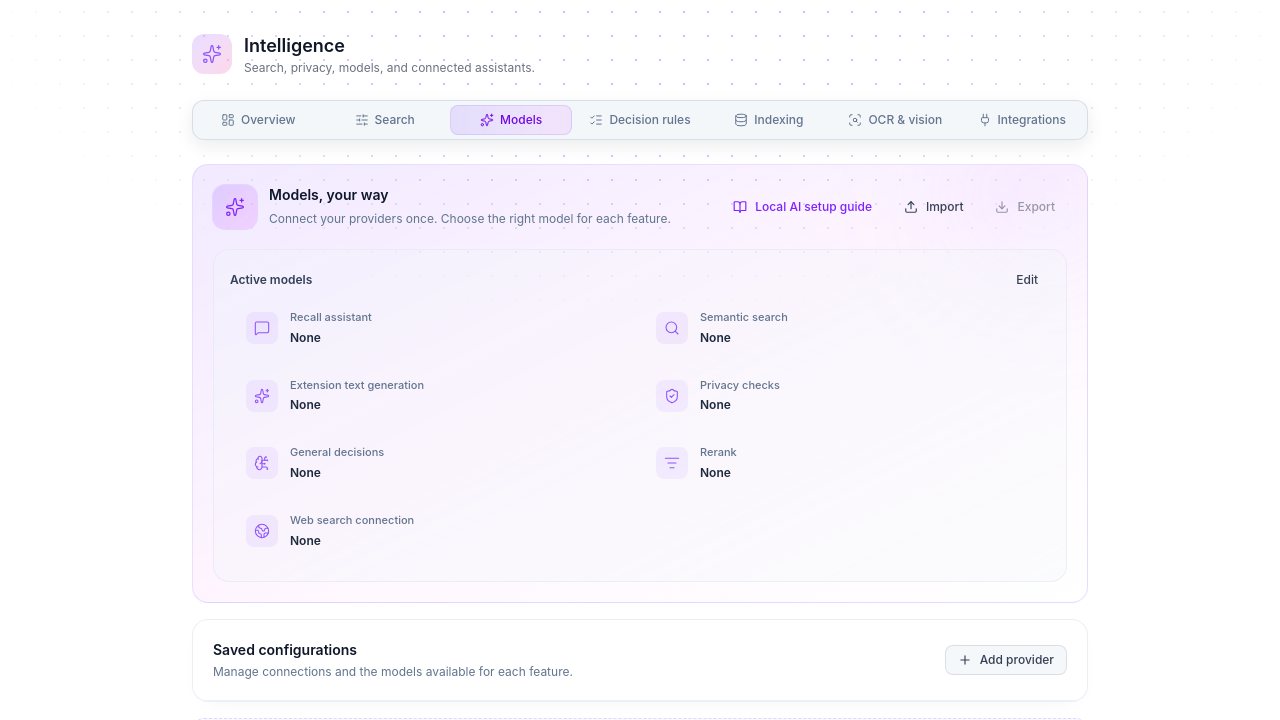
Test case: IntelligencePage indexing actions › separates model assignments from indexing operations
The image size is (1280, 720).
expect the heading "Active models" is shown: met, box [230,272,312,288]
expect the button "Reindex all" is not shown: met
Click the tab "Indexing": (769, 120) [708,105,830,135]
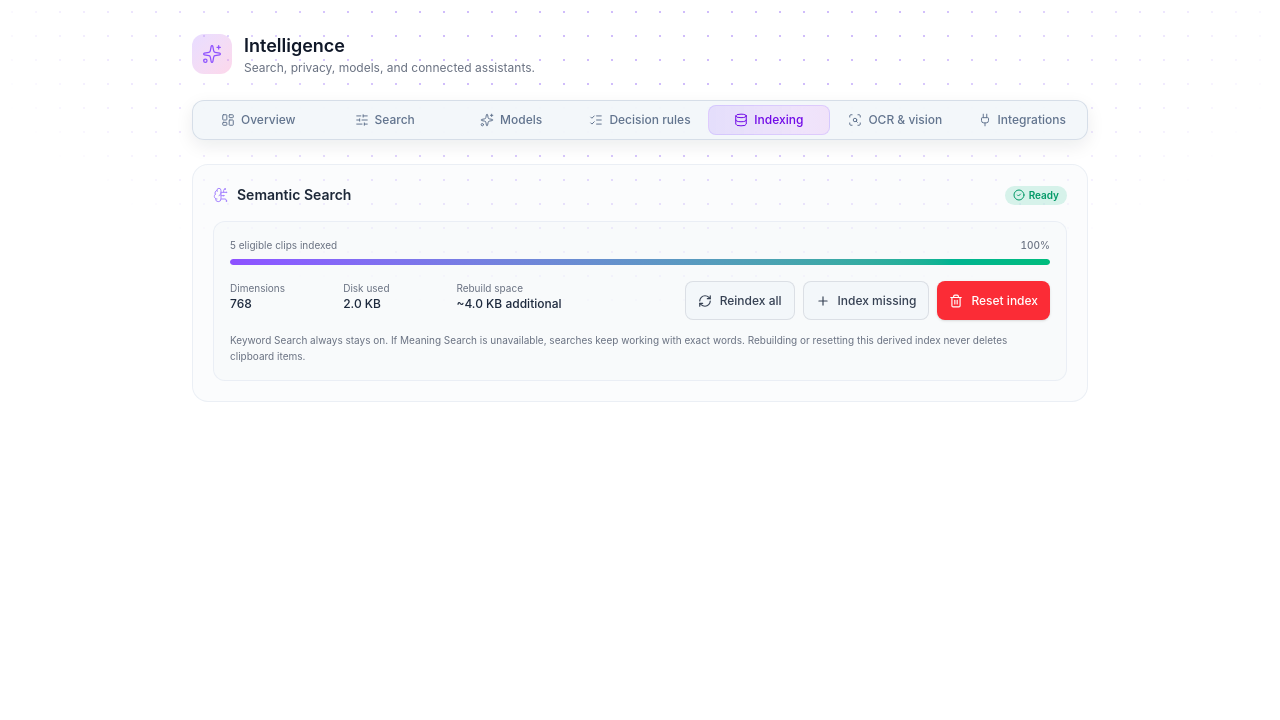
expect the button "Reindex all" is shown: met, box [685,281,795,320]
